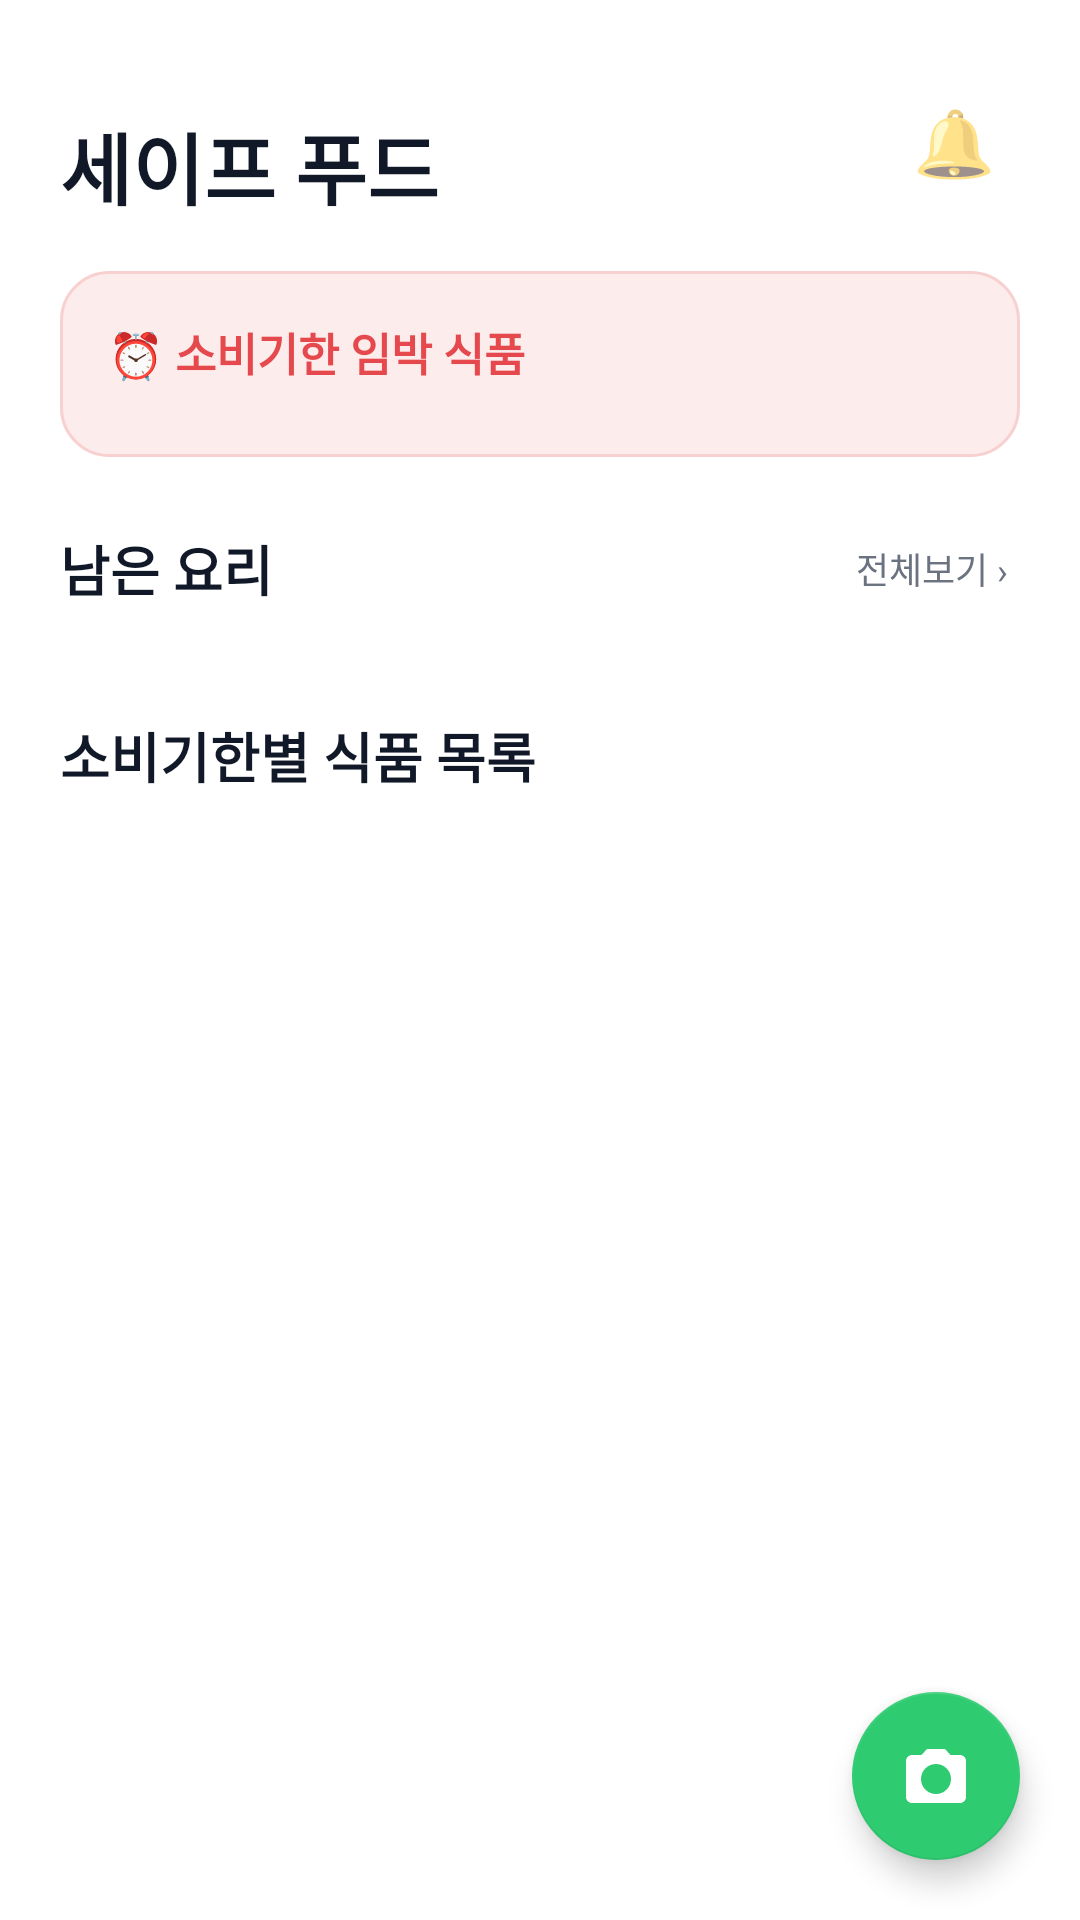

Where to tap for icons on this 1080px x 1920px app screen, as (x=x, y=y):
식품 스캔: (x=936, y=1776)
